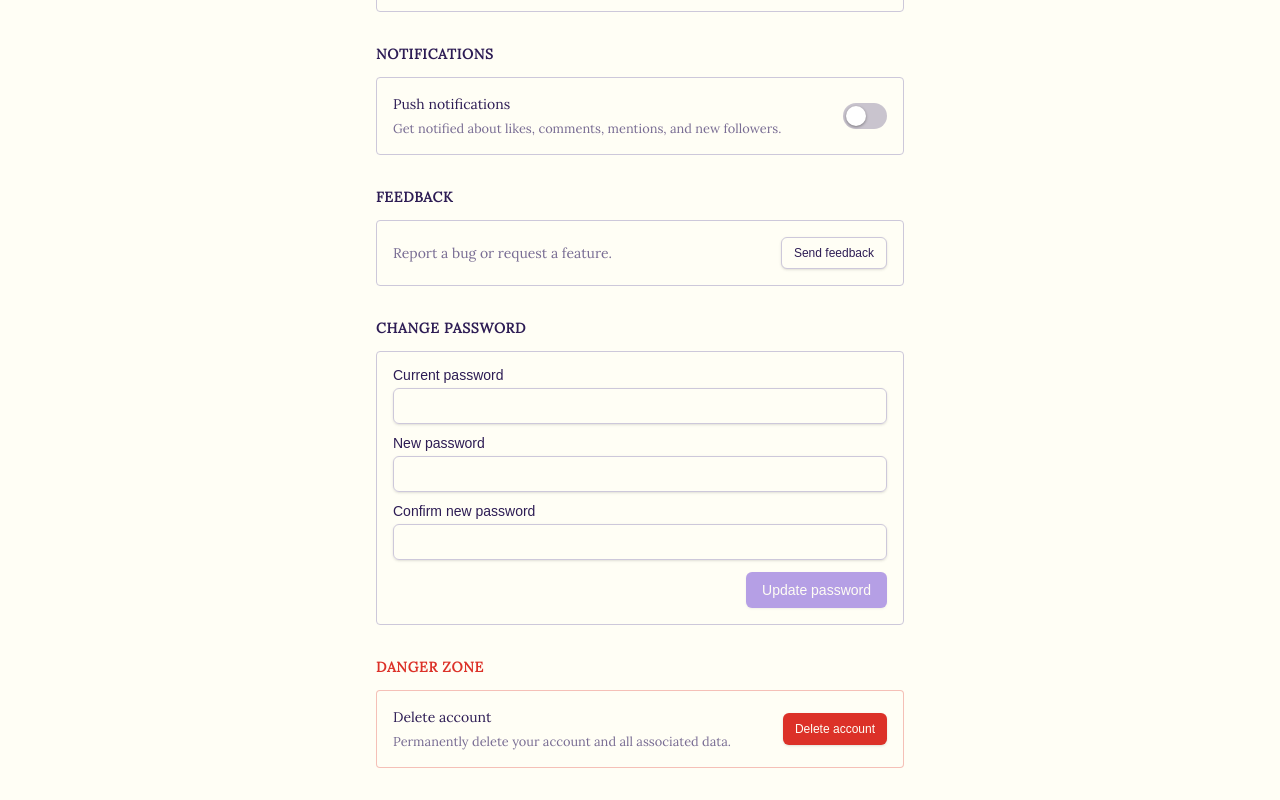
Test: Settings — delete account › opens the confirmation dialog when Delete account is clicked
(page scrolled)
Click the button "Delete account".
click(835, 729)  # box [783,713,887,745]
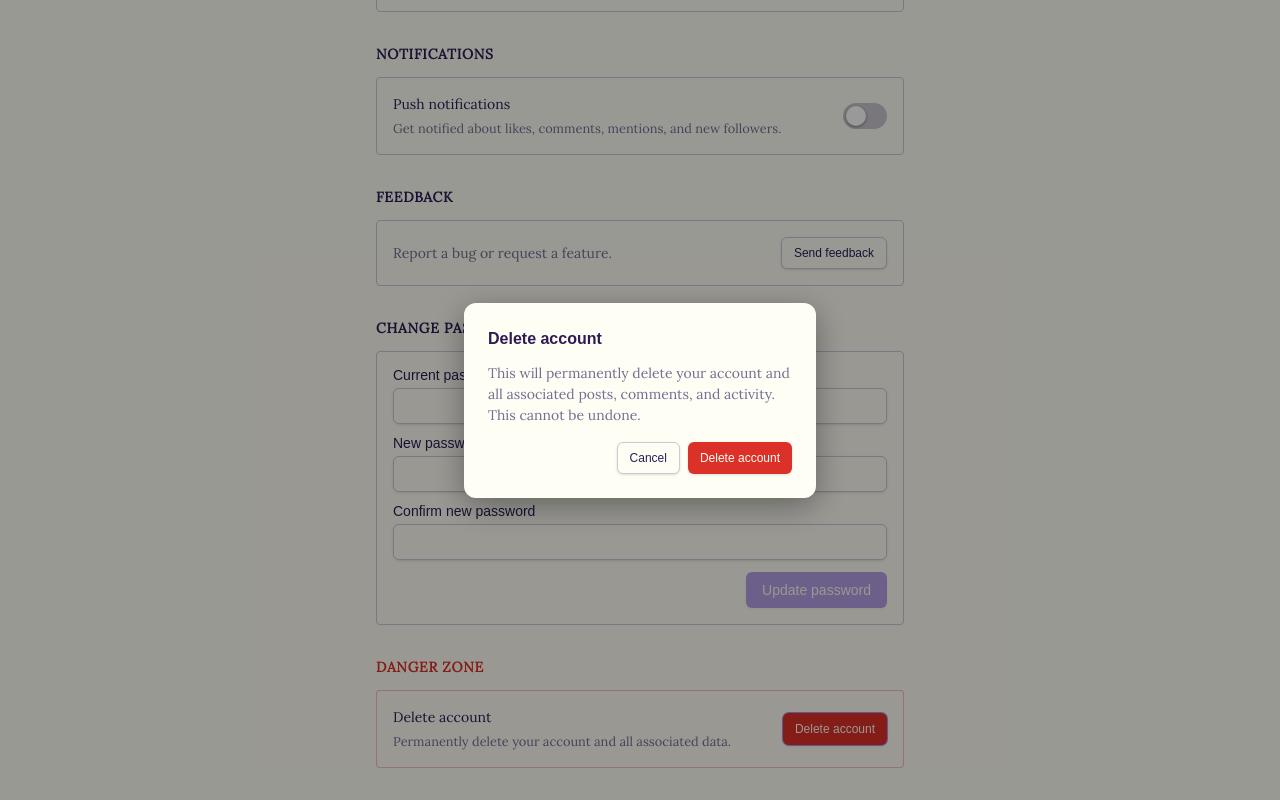
Check: the text "This will permanently delete your account and all associated posts, comments, and activity. This cannot be undone." is shown, box [488,364,790,424]
